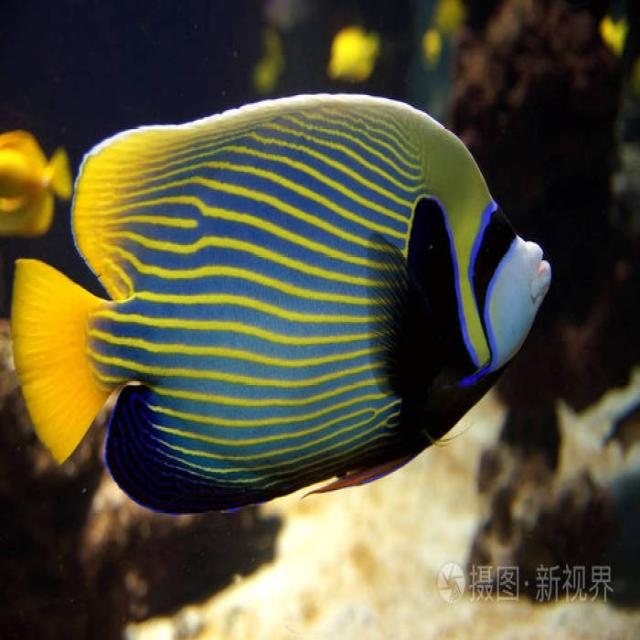AngelFish: (11, 92, 553, 522)
